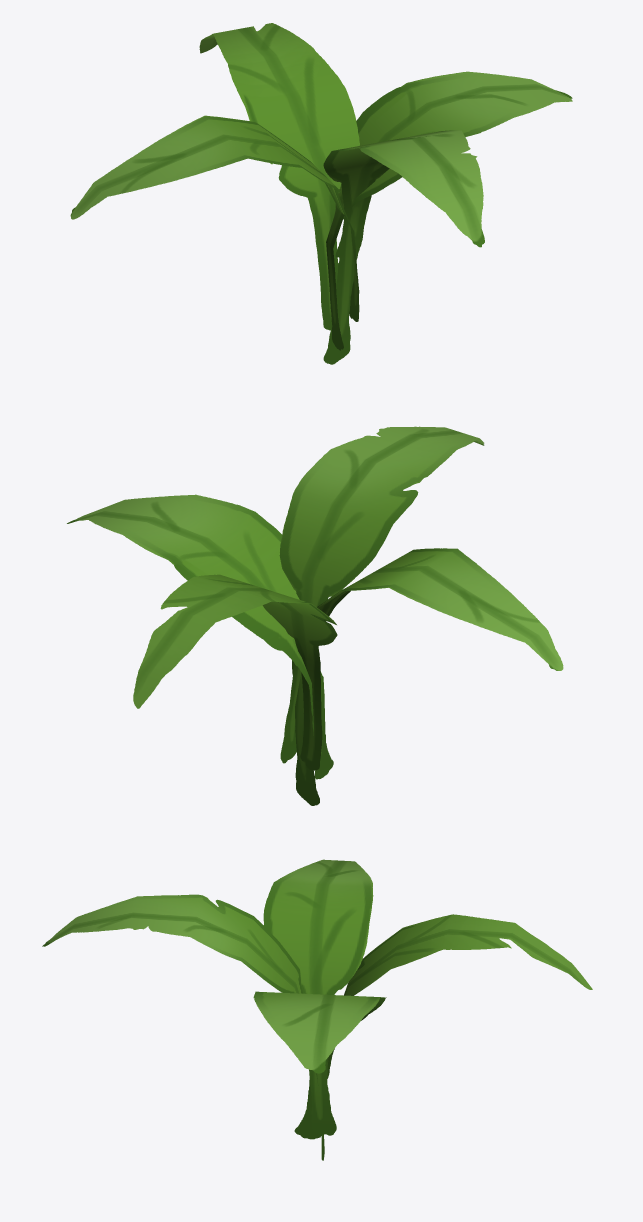
File: Bush.fbx
3 renders of one model, top to bottom at view 1: azimuth 30°, elevation 25°; view 2: azimuth 150°, elevation 25°; view 3: azimuth 270°, elevation 25°, orthographic. The views are drawn at different scales.
Visible parts, largest first — view 1: bent_leaf, bent_leaf3, bent_leaf2, bent_leaf1; view 2: bent_leaf3, bent_leaf2, bent_leaf, bent_leaf1; view 3: bent_leaf1, bent_leaf3, bent_leaf, bent_leaf2.
Boxes of the visible parts, x1,y1,x2,y2 form: bent_leaf: (199, 23, 359, 330); bent_leaf3: (323, 130, 484, 364); bent_leaf2: (326, 71, 572, 350); bent_leaf1: (70, 115, 359, 321); bent_leaf3: (279, 426, 484, 805); bent_leaf2: (67, 494, 333, 779); bent_leaf: (133, 574, 337, 770); bent_leaf1: (280, 548, 563, 763); bent_leaf1: (263, 859, 373, 1135); bent_leaf3: (42, 894, 324, 1160); bent_leaf: (327, 914, 592, 1064); bent_leaf2: (253, 991, 386, 1139).
Bounding box in the file's own units: 3.09 × 1.55 × 3.37.
